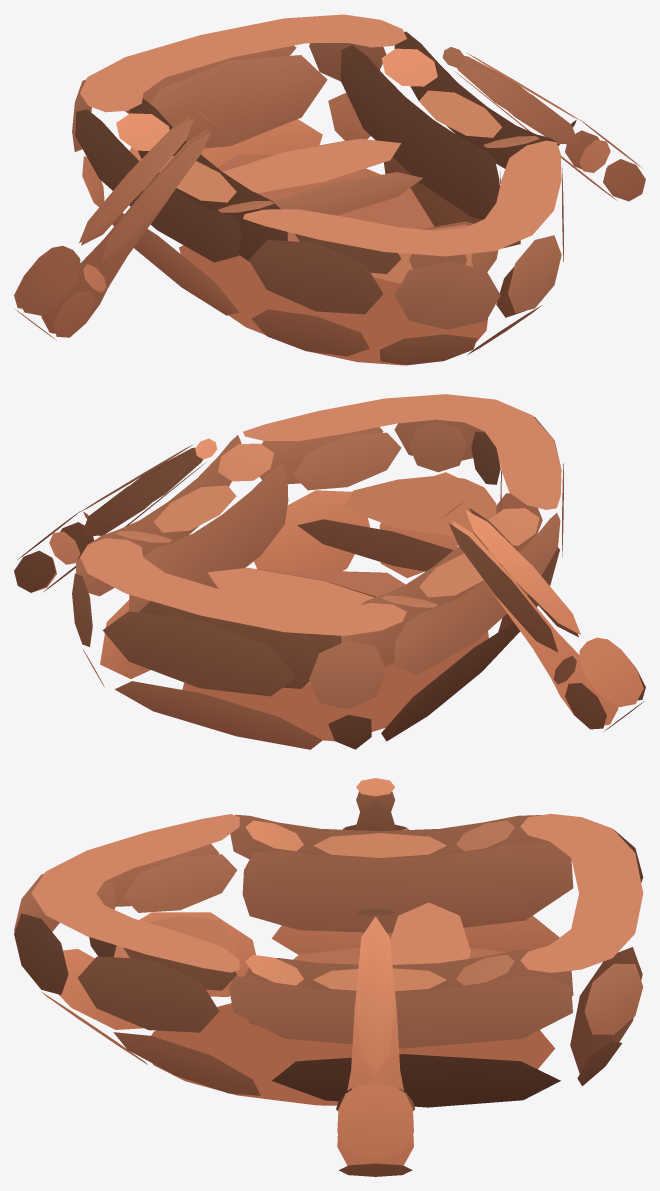
Rendered from boat-row-small.glb.
3 renders of one model, top to bottom at view 1: azimuth 30°, elevation 25°; view 2: azimuth 150°, elevation 25°; view 3: azimuth 270°, elevation 25°, orthographic. The views are drawn at different scales.
Parts seen in each view (by area): view 1: boat-row-small, paddles; view 2: boat-row-small, paddles; view 3: boat-row-small, paddles.
Boxes of the visible parts, x1,y1,x2,y2 form: boat-row-small: [72, 14, 563, 365]; paddles: [14, 47, 645, 340]; boat-row-small: [72, 394, 563, 749]; paddles: [14, 438, 645, 731]; boat-row-small: [14, 814, 643, 1107]; paddles: [336, 778, 414, 1176].
Bounding box in the file's own units: 2.74 × 0.8453 × 2.36.
1 material, 1 textured.
